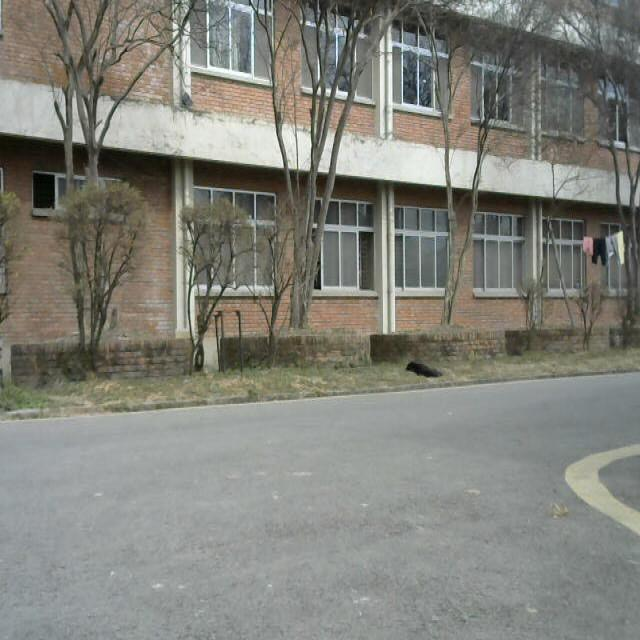Buildings: (2, 3, 640, 330)
Road: (0, 417, 640, 640)
trees: (408, 5, 528, 341), (265, 0, 370, 330), (62, 184, 144, 384), (184, 191, 265, 384)
